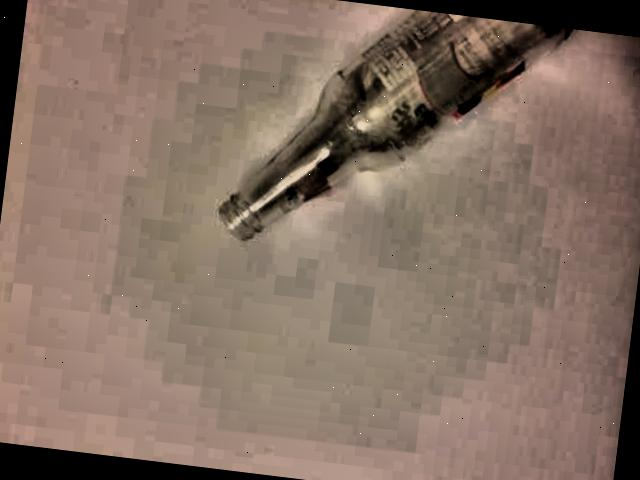Bottles: (206, 0, 562, 273)
